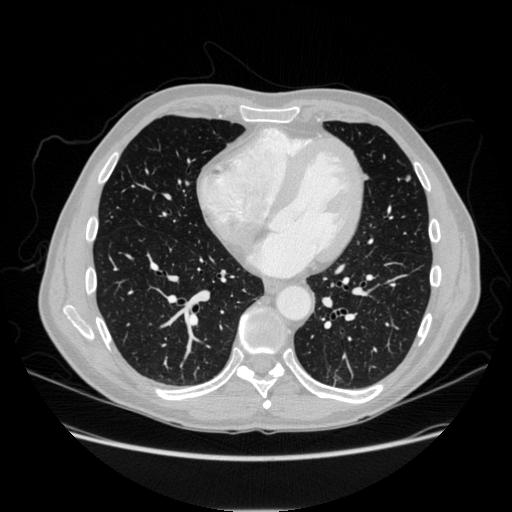nodule: (403, 174, 413, 184)
